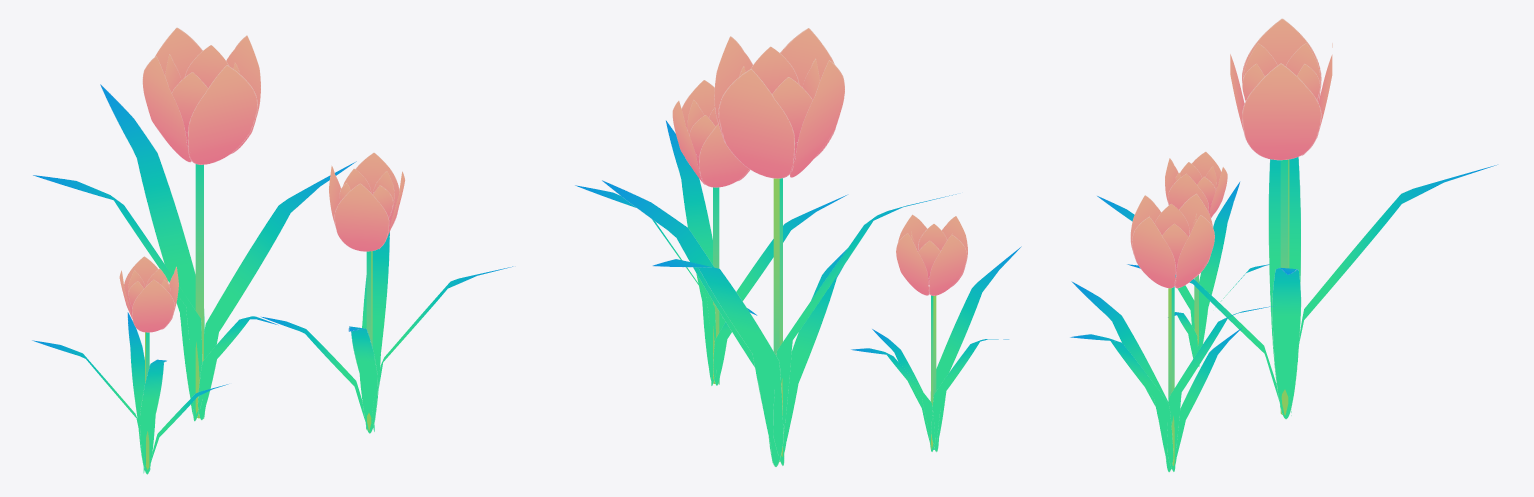
Rendered from Flowers_n02_17.fbx.
3 views of the same model, side by side, from view 1: azimuth 30°, elevation 25°; view 2: azimuth 150°, elevation 25°; view 3: azimuth 270°, elevation 25° (orthographic). The views are drawn at different scales.
Visible parts, largest first — view 1: polySurface256; view 2: polySurface256; view 3: polySurface256.
Boxes of the visible parts, box(x1,y1,x2,y2) form: polySurface256: box(32, 27, 515, 474); polySurface256: box(575, 28, 1021, 466); polySurface256: box(1070, 18, 1498, 472).
Size of the model in its own units: 46.15 by 41.68 by 43.88.
1 material, 1 textured.
